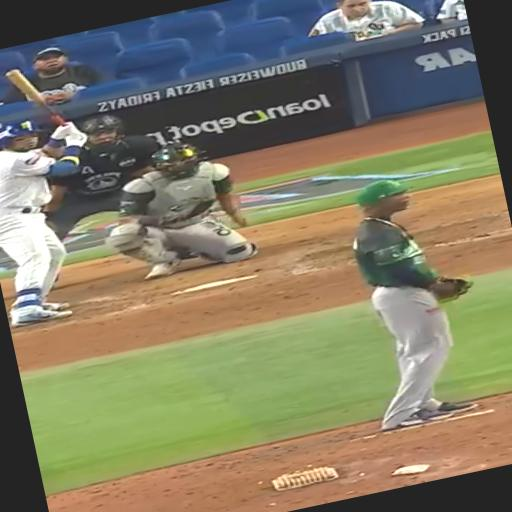bat: (5, 70, 65, 126)
